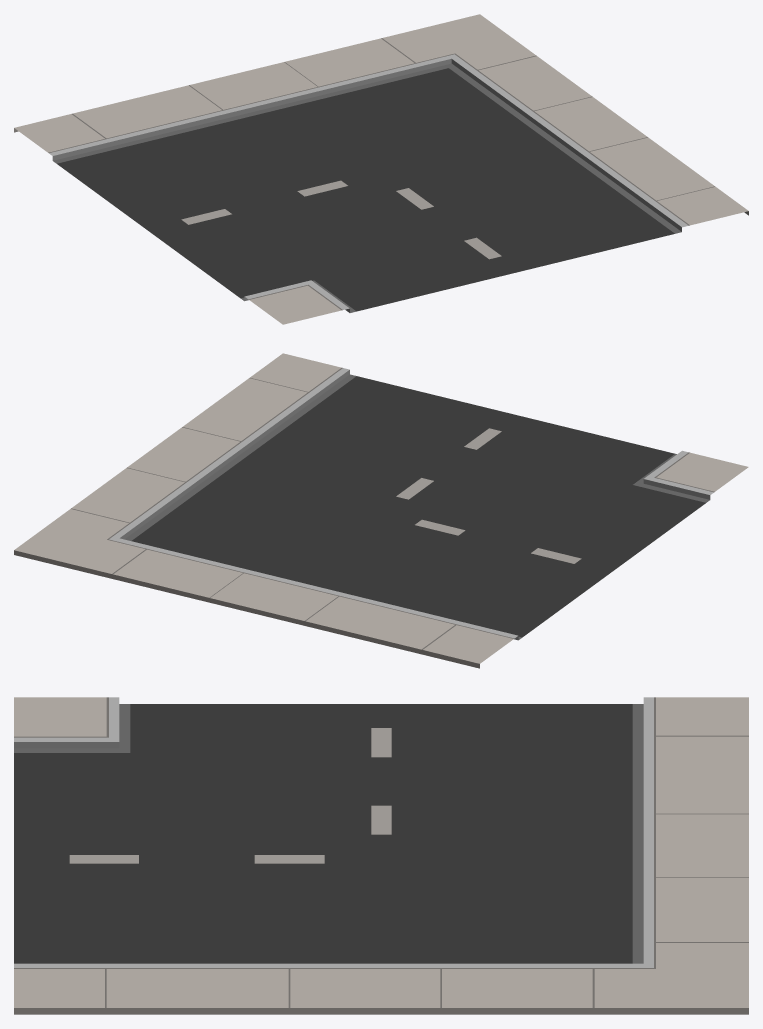
Rendered from SA_Env_Road_CornerLines_01.gltf.
The picture shows the model from 3 angles, top to bottom: view 1: azimuth 30°, elevation 25°; view 2: azimuth 150°, elevation 25°; view 3: azimuth 270°, elevation 25°; orthographic projection. The views are drawn at different scales.
Visible parts, largest first — view 1: SA_Env_Road_CornerLines_01; view 2: SA_Env_Road_CornerLines_01; view 3: SA_Env_Road_CornerLines_01.
Part boxes in pixels (left/top/right/bottom): SA_Env_Road_CornerLines_01: left=14, top=14, right=748, bottom=324; SA_Env_Road_CornerLines_01: left=14, top=353, right=748, bottom=668; SA_Env_Road_CornerLines_01: left=14, top=697, right=748, bottom=1014.
Bounding box in the file's own units: 20 × 0.1948 × 20.
Materials: 1 (1 with a texture image).
